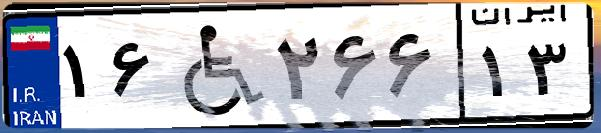1: (57, 26, 110, 100), (475, 38, 525, 113)
2: (270, 28, 330, 110)
3: (525, 38, 570, 115)
6: (385, 28, 445, 110), (330, 28, 385, 110), (110, 28, 158, 98)
ژ (معلولین و جانبازان): (158, 12, 270, 120)
